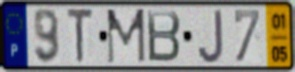7: (232, 8, 262, 66)
9: (32, 6, 61, 66)
B: (145, 9, 183, 65)
J: (196, 7, 225, 66)
M: (105, 7, 147, 66)
T: (66, 7, 96, 67)
